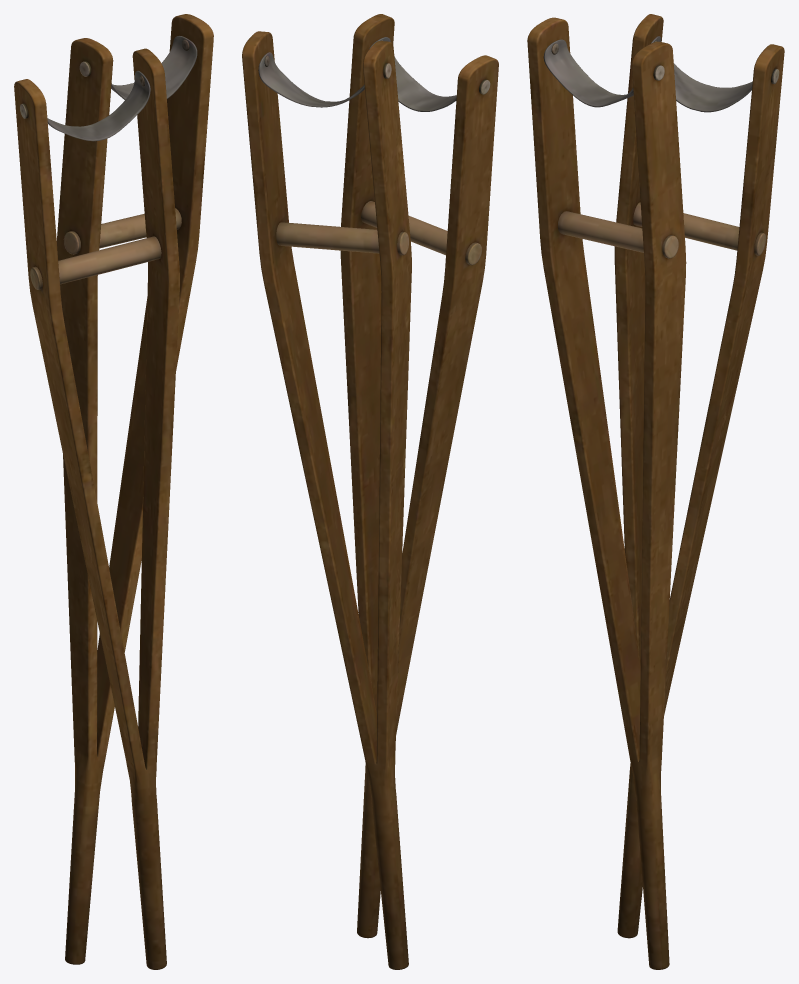
The model's file is vintage_crutches_01.825704b5.glb.
The picture shows the model from 3 angles, left to right: view 1: azimuth 30°, elevation 25°; view 2: azimuth 150°, elevation 25°; view 3: azimuth 330°, elevation 25°; orthographic projection.
Parts seen in each view (by area): view 1: vintage_crutches_01_crutch01, vintage_crutches_01_crutch02; view 2: vintage_crutches_01_crutch02, vintage_crutches_01_crutch01; view 3: vintage_crutches_01_crutch01, vintage_crutches_01_crutch02.
Part boxes in pixels (x1,y1,x2,y2): vintage_crutches_01_crutch01: (14, 48, 179, 969); vintage_crutches_01_crutch02: (56, 14, 213, 964); vintage_crutches_01_crutch02: (242, 31, 411, 969); vintage_crutches_01_crutch01: (340, 14, 498, 938); vintage_crutches_01_crutch01: (527, 17, 686, 969); vintage_crutches_01_crutch02: (614, 14, 784, 938).
Bounding box in the file's own units: 0.2391 × 1 × 0.1268.
1 material, 1 textured.
